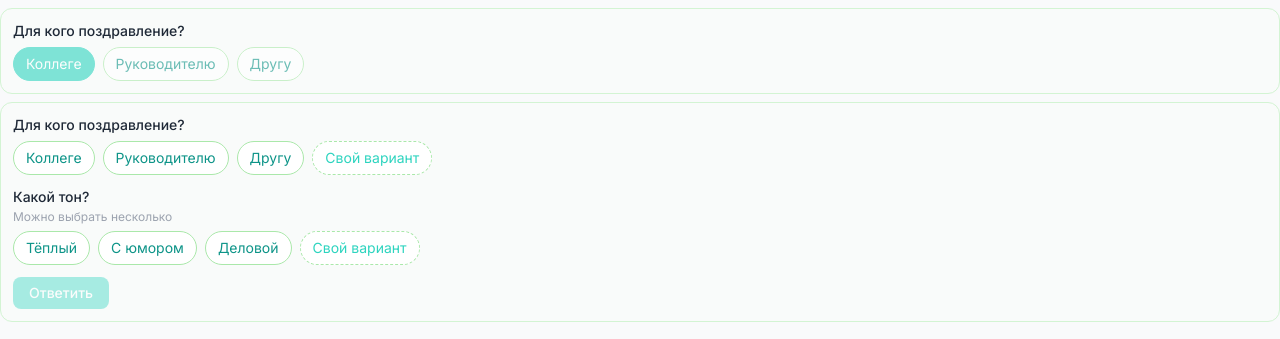
it: карточка вопроса › несколько вопросов: «Ответить» активна, только когда отвечено на каждый
Later steps or results of the test are not shown.
Expected: the button "Ответить" is disabled, [13,277,109,309]
Click the 2nd button "Руководителю".
click(166, 158)  # box [103,141,229,175]
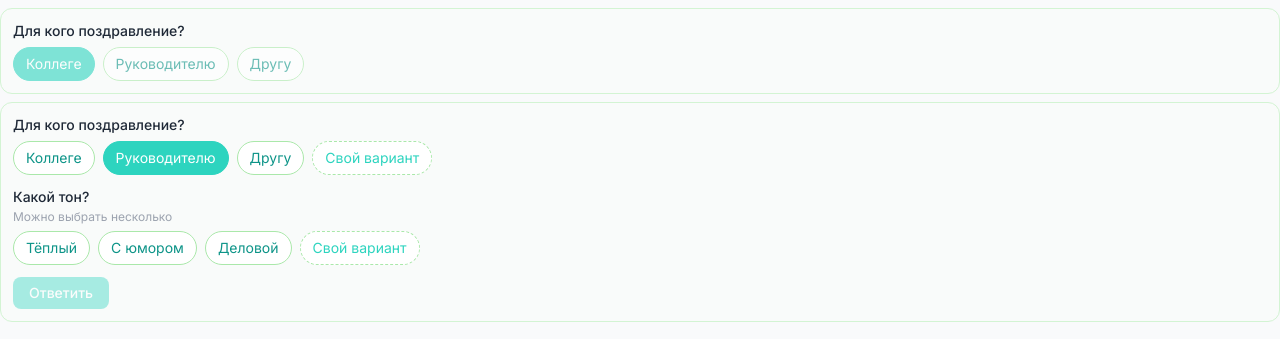
Expected: the button "Ответить" is disabled, [13,277,109,309]
Click the button "Тёплый".
click(52, 248)  # box [13,231,90,265]
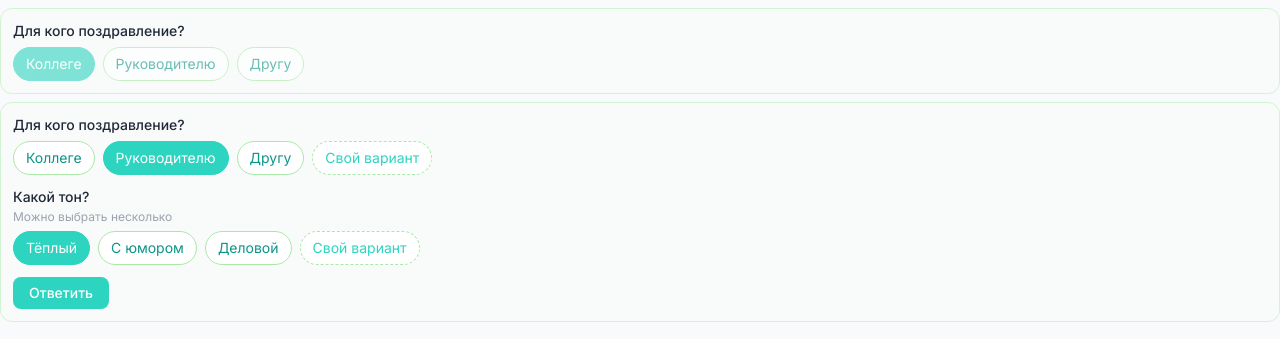
Click the button "Деловой".
click(248, 248)  # box [205,231,292,265]
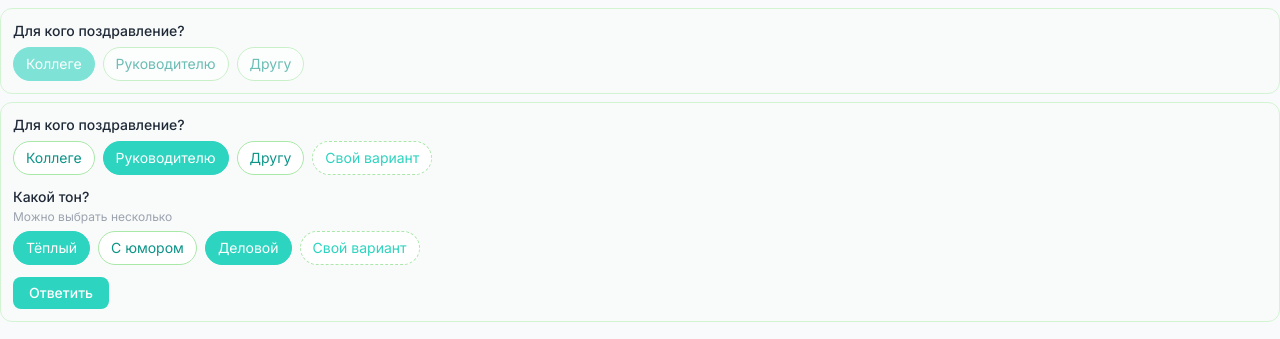
Expected: the button "Ответить" is enabled, [13,277,109,309]
